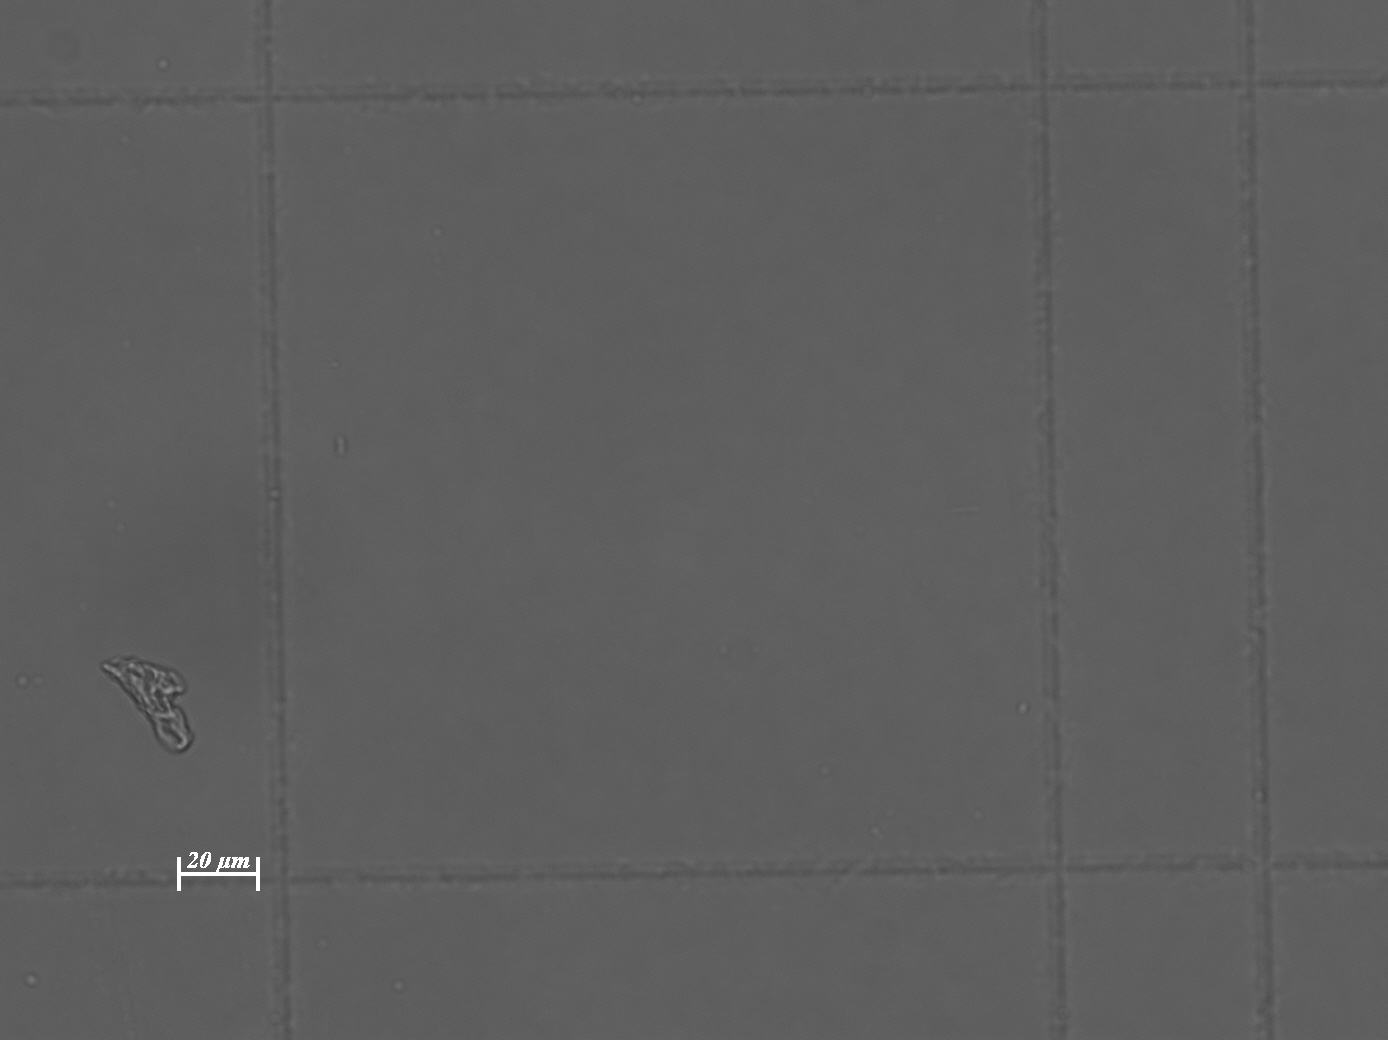spore: (334, 434, 346, 457)
